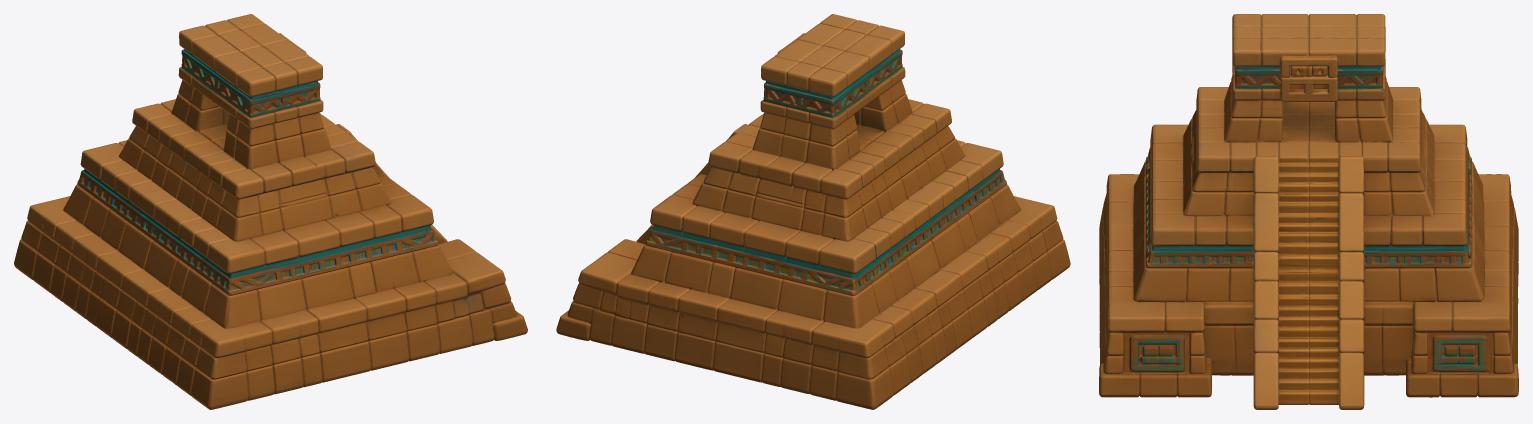
The model's file is BigBuilding.fbx.
The picture shows the model from 3 angles, left to right: view 1: azimuth 30°, elevation 25°; view 2: azimuth 150°, elevation 25°; view 3: azimuth 270°, elevation 25°; orthographic projection. The views are drawn at different scales.
Parts seen in each view (by area): view 1: texture_pbr_v128; view 2: texture_pbr_v128; view 3: texture_pbr_v128.
Boxes of the visible parts, x1,y1,x2,y2 form: texture_pbr_v128: [14, 14, 527, 409]; texture_pbr_v128: [556, 14, 1070, 409]; texture_pbr_v128: [1099, 14, 1518, 409].
Size of the model in its own units: 4571 by 3316 by 4586.
1 material, 1 textured.
